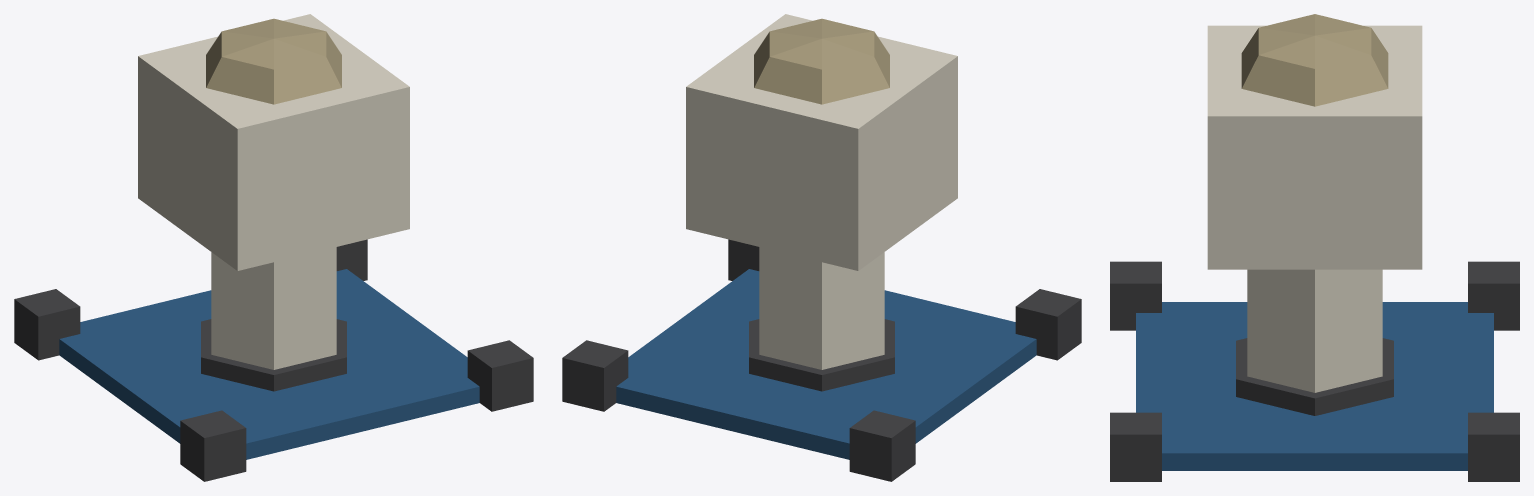
Rendered from rcs4_mount.obj.
The picture shows the model from 3 angles, left to right: view 1: azimuth 30°, elevation 25°; view 2: azimuth 150°, elevation 25°; view 3: azimuth 270°, elevation 25°; orthographic projection. The views are drawn at different scales.
Parts seen in each view (by area): view 1: rcs4_mount; view 2: rcs4_mount; view 3: rcs4_mount.
Boxes of the visible parts, x1,y1,x2,y2 form: rcs4_mount: (14, 14, 533, 481); rcs4_mount: (562, 14, 1081, 481); rcs4_mount: (1110, 14, 1519, 481).
Size of the model in its own units: 1.26 by 1.22 by 1.26.
